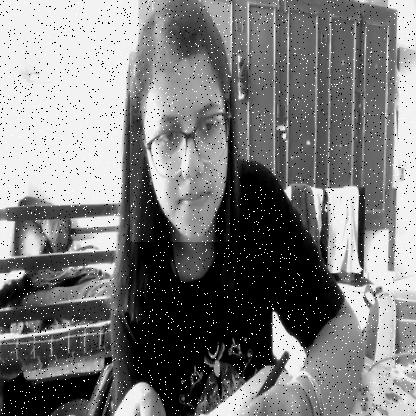Normal: (130, 0, 230, 242)
